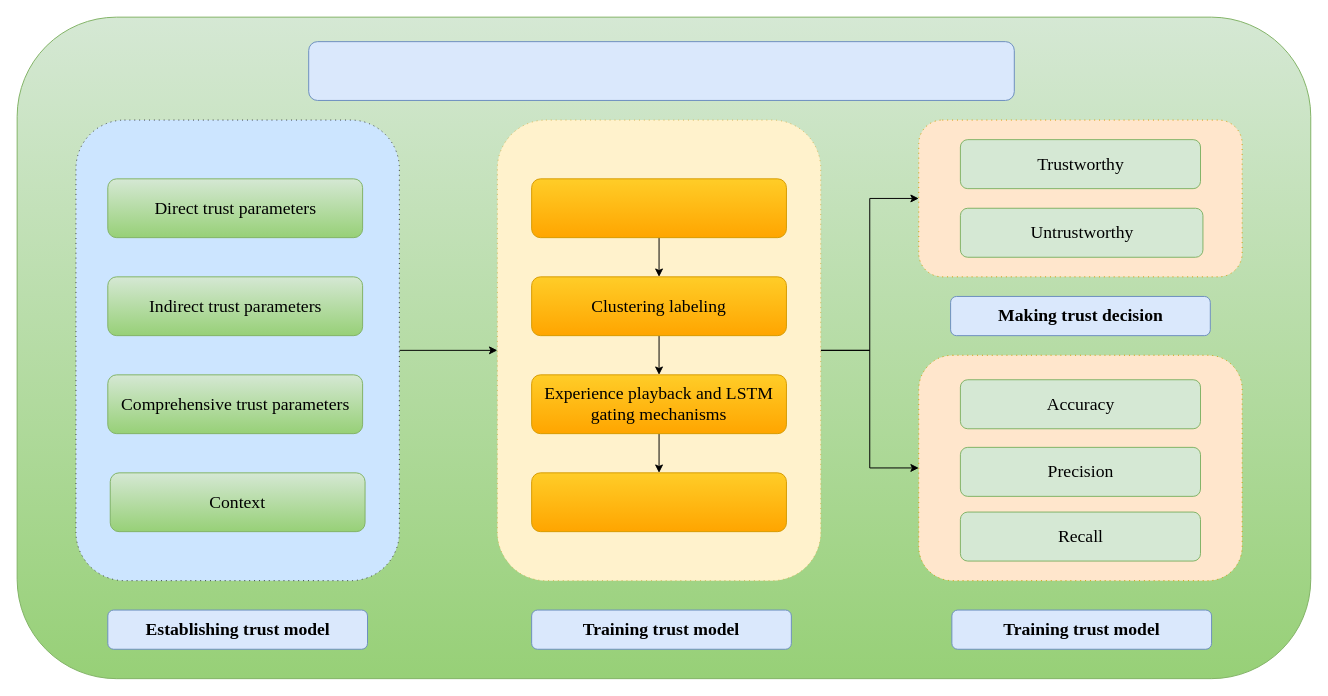
This 1328x696 diagram has some shape labels left out. The centre of each missing label's shape, as x and y in pixels:
"Dynamic Trust-Based Security Method" belongs at [661,70].
"Feature extraction" belongs at [658,208].
"Optimal trust boundary" belongs at [658,502].
